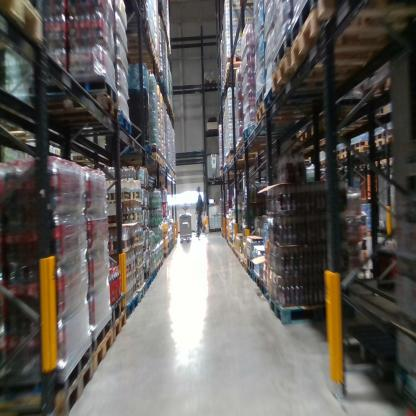pallet: (291, 6, 414, 69), (273, 44, 402, 94), (1, 356, 95, 413), (34, 107, 136, 136), (267, 293, 338, 333), (2, 2, 49, 60), (256, 93, 337, 125), (38, 95, 121, 125), (263, 78, 324, 109), (240, 123, 306, 143), (1, 124, 43, 145), (63, 148, 104, 169), (91, 330, 113, 369), (234, 137, 282, 153), (118, 57, 161, 73), (119, 29, 155, 48), (109, 306, 127, 340), (124, 47, 159, 64), (104, 292, 122, 323), (227, 151, 260, 166), (117, 153, 161, 164), (225, 61, 251, 77), (126, 295, 139, 322), (354, 140, 372, 156), (371, 134, 387, 151), (139, 275, 152, 293), (262, 279, 271, 305), (247, 255, 259, 273), (386, 132, 400, 146), (253, 271, 263, 290), (137, 284, 147, 302), (147, 266, 157, 282), (248, 269, 255, 285), (342, 149, 351, 158), (154, 263, 161, 274), (161, 250, 168, 261), (348, 149, 355, 159), (335, 153, 342, 162)
